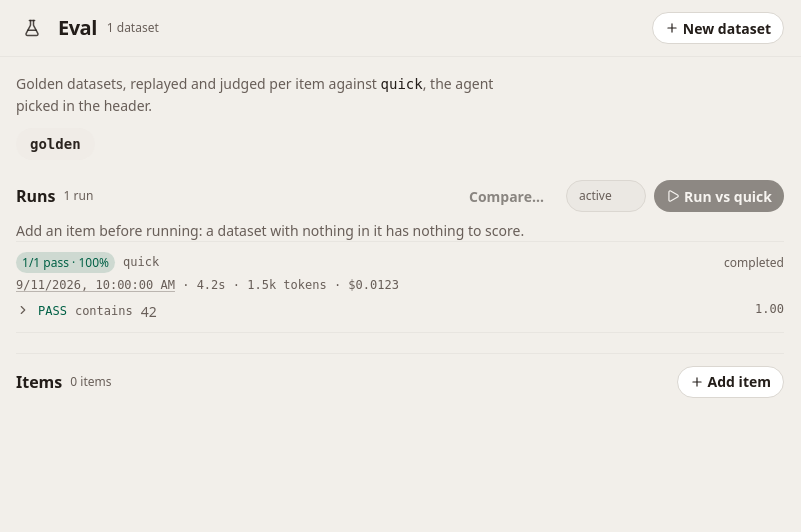
Test case: a run says what it cost, and when its judge did not run › shows an item's own duration, tokens and cost when it is opened
This screenshot has width=801, height=532.
Click the button "pass contains 42 1.00". click: (104, 311)
box: [16, 301, 784, 322]
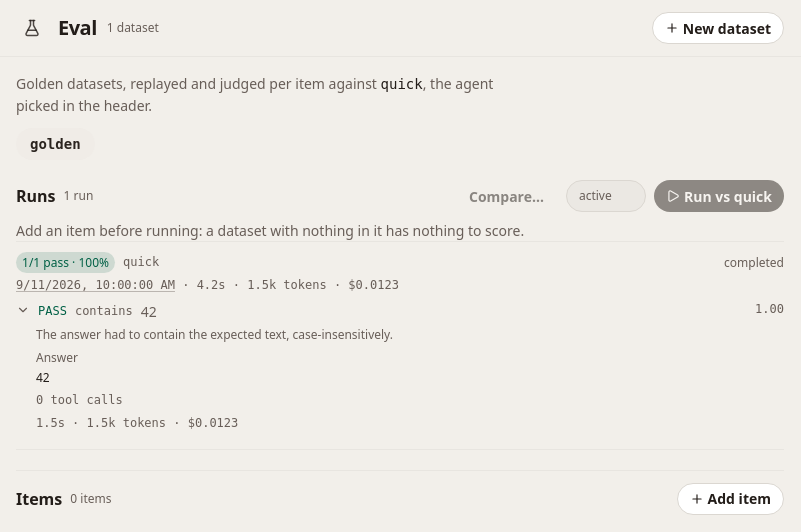
Result: the text "1.5s · 1.5k tokens · $0.0123" is shown at [36, 416, 238, 430]
